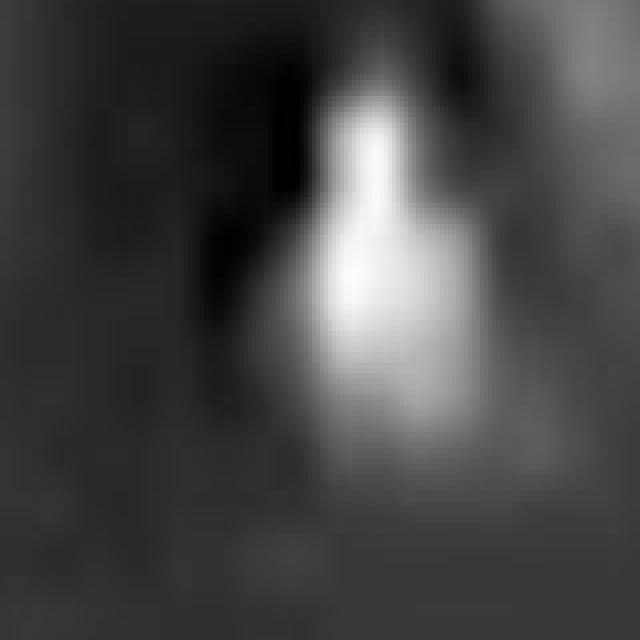person: (239, 60, 498, 519)
